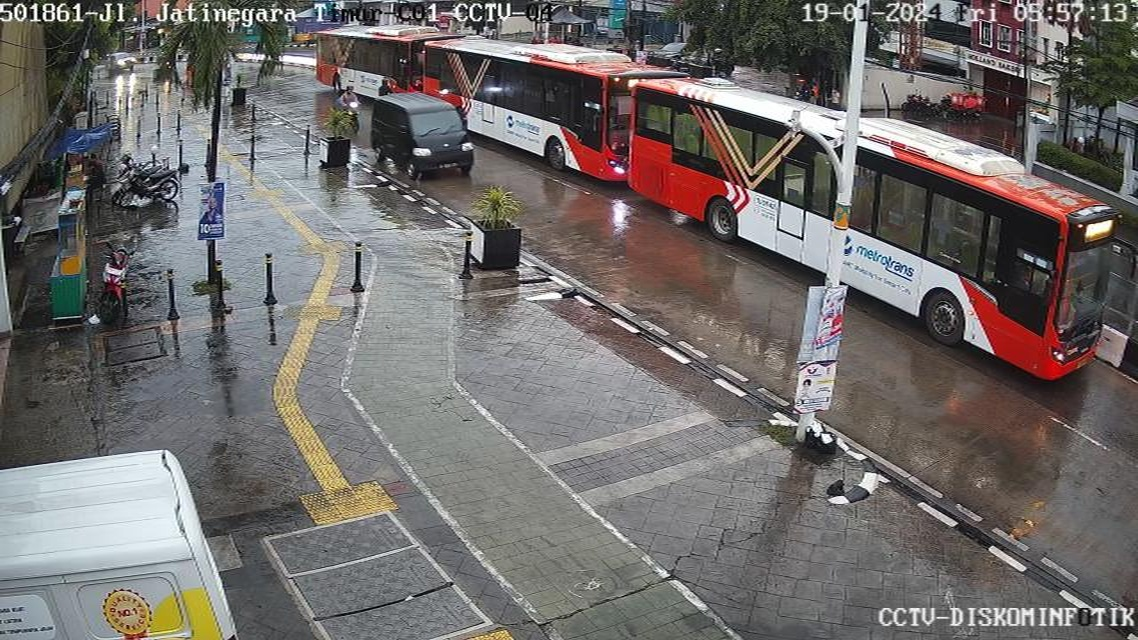Gerobak: (23, 183, 114, 322)
